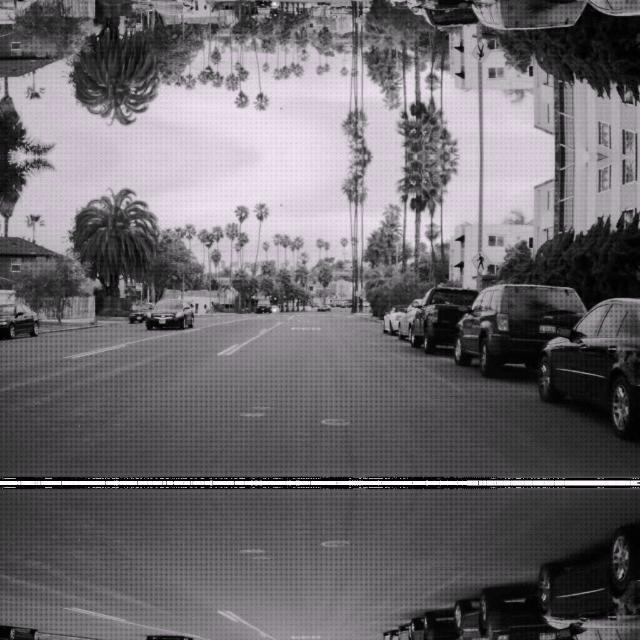pedestrianCrossing: (470, 248, 490, 272), (470, 40, 490, 64)
